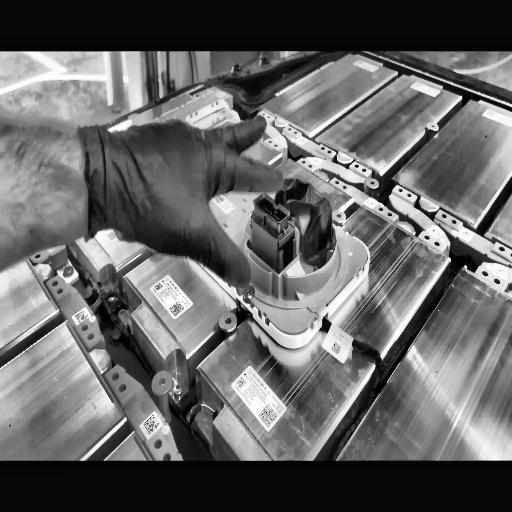busbar: (250, 104, 512, 297)
